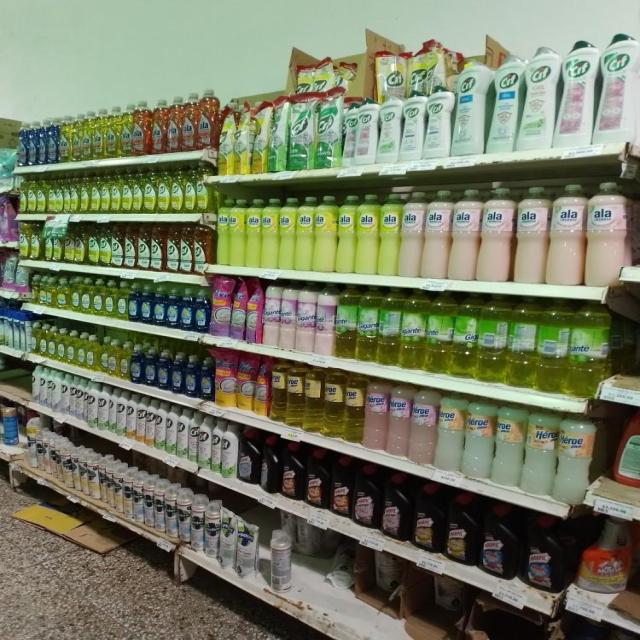ala_conc_amarillo: (198, 90, 217, 150), (133, 100, 150, 156), (151, 98, 167, 154), (183, 93, 197, 151), (168, 95, 181, 153), (120, 102, 133, 158), (105, 106, 119, 158), (60, 114, 72, 162), (93, 108, 104, 160), (83, 110, 93, 160), (72, 113, 82, 161)
ala_conc_azul: (48, 118, 58, 164)
ala_crem_amarillo: (357, 192, 378, 274), (379, 190, 399, 276), (315, 195, 336, 273), (337, 194, 356, 274), (296, 196, 314, 271), (279, 197, 295, 270), (262, 198, 278, 269), (229, 198, 245, 267), (246, 199, 261, 268)
ala_crem_blanco: (400, 190, 422, 278)
ala_crem_rosado: (585, 181, 630, 287), (548, 184, 584, 286), (479, 185, 513, 283), (514, 186, 547, 284), (450, 188, 478, 281), (423, 190, 449, 280), (632, 184, 640, 268)
cif_conc_bot_amarilla: (180, 225, 193, 272), (170, 173, 183, 214), (157, 173, 170, 214), (144, 173, 156, 214), (88, 223, 99, 266), (184, 174, 196, 213), (100, 224, 110, 267), (76, 223, 86, 265), (51, 176, 62, 214), (132, 174, 142, 214), (122, 174, 132, 214), (64, 223, 74, 263), (196, 180, 208, 213), (90, 175, 100, 214), (30, 223, 40, 261), (19, 222, 29, 260), (80, 176, 90, 214), (36, 176, 46, 214), (64, 177, 74, 214), (53, 225, 63, 262), (111, 174, 120, 214), (43, 225, 53, 261), (101, 174, 110, 213), (70, 178, 79, 214), (28, 177, 36, 213)
cif_conc_botella_roja: (194, 223, 208, 270), (166, 225, 179, 273), (151, 225, 164, 272), (123, 223, 136, 270), (137, 224, 150, 270)
cif_conc_botella_verde: (112, 224, 124, 268)
cif_conc_sachet_amarillo: (376, 51, 406, 103)
cif_conc_sachet_verde: (288, 96, 314, 170), (316, 94, 341, 168)
drive: (215, 350, 236, 407), (237, 353, 255, 412)
heroe: (556, 412, 596, 504), (523, 407, 556, 496), (493, 403, 522, 488), (464, 398, 493, 479), (436, 393, 463, 472), (410, 388, 436, 466), (364, 378, 387, 451), (388, 383, 409, 457)
magistral_con_amarillo: (116, 282, 128, 320), (104, 280, 115, 318), (92, 279, 103, 316)
magistral_con_azul: (185, 353, 199, 398), (195, 288, 208, 333), (181, 288, 194, 331), (171, 352, 184, 394), (167, 287, 180, 328), (153, 286, 166, 326), (157, 350, 170, 390), (140, 285, 153, 324), (128, 283, 139, 322), (28, 120, 37, 165)
